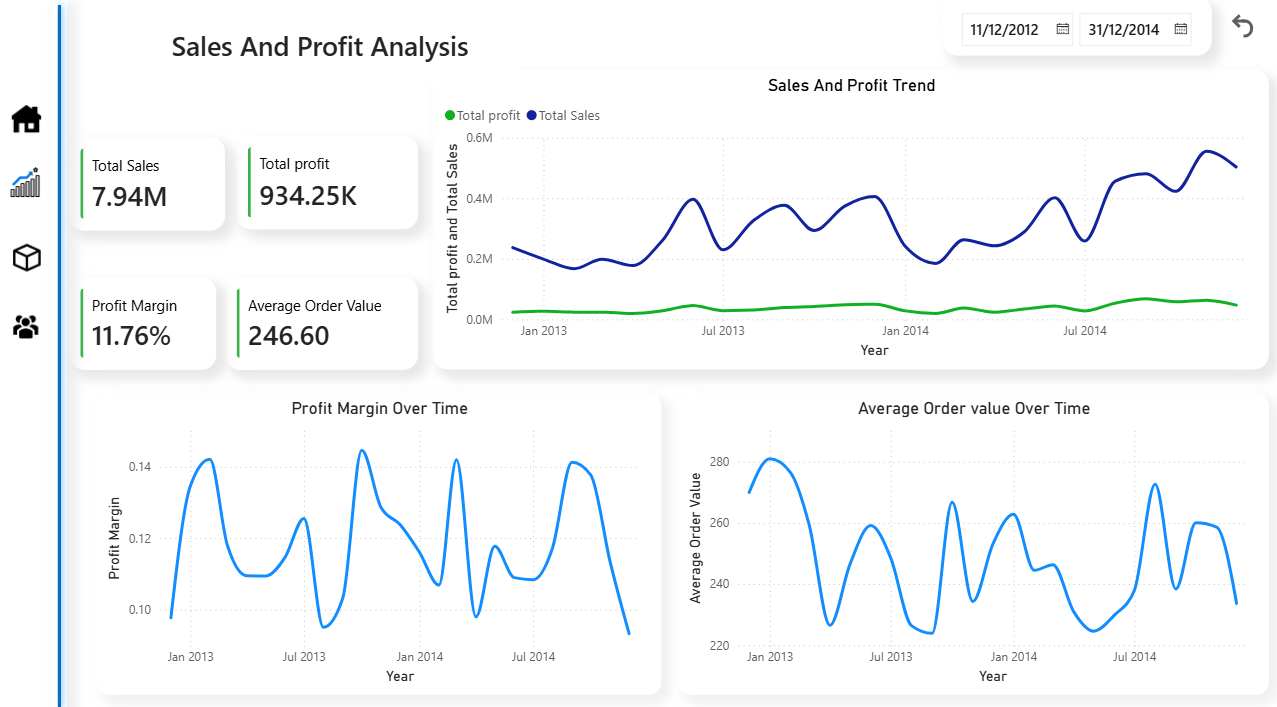

This screenshot's page, from the dashboard's own definition file:
{"tool":"powerbi","page":{"name":"Sales & Profit Analysis","canvas":[1280,720],"ordinal":1},"visuals":[{"type":"lineChart","title":"Sales And Profit Trend","fields":{"Y":["orders.Total profit","orders.Total Sales"],"Category":["date.Date.Variation.Date Hierarchy.Year","date.Date.Variation.Date Hierarchy.Month","date.Date.Variation.Date Hierarchy.Day"]},"box":[433.8,72.5,836.2,300],"z":1000},{"type":"cardVisual","fields":{"Data":["orders.Average Order Value"]},"box":[226.2,280,192.5,92.5],"z":2000},{"type":"cardVisual","fields":{"Data":["orders.Total profit"]},"box":[237.5,138.8,181.2,93.8],"z":3000},{"type":"cardVisual","fields":{"Data":["orders.Total Sales"]},"box":[70,140,156.2,93.8],"z":4000},{"type":"cardVisual","fields":{"Data":["orders.Profit Margin"]},"box":[70,280,147.5,92.5],"z":5000},{"type":"textbox","box":[167.5,25,352.5,58.8],"z":6000},{"type":"slicer","fields":{"Values":["date.Date"]},"box":[944,0,269,58.7],"z":7000},{"type":"lineChart","title":"Profit Margin Over Time","fields":{"Y":["orders.Profit Margin"],"Category":["date.Date.Variation.Date Hierarchy.Year","date.Date.Variation.Date Hierarchy.Quarter","date.Date.Variation.Date Hierarchy.Month","date.Date.Variation.Date Hierarchy.Day"]},"box":[97.5,396.2,565,301.2],"z":8000},{"type":"lineChart","title":"Average Order value Over Time","fields":{"Category":["date.Date.Variation.Date Hierarchy.Year","date.Date.Variation.Date Hierarchy.Quarter","date.Date.Variation.Date Hierarchy.Month","date.Date.Variation.Date Hierarchy.Day"],"Y":["orders.Average Order Value"]},"box":[678.8,396.2,591.2,301.2],"z":9000},{"type":"shape","box":[51.9,0,15.7,720.2],"z":10000},{"type":"actionButton","box":[6,161.7,39.8,48.3],"z":11000},{"type":"actionButton","box":[8.4,95.3,37.4,54.3],"z":12000},{"type":"actionButton","box":[6,308.8,51.9,41],"z":13000},{"type":"actionButton","box":[4.8,234,45.8,53.1],"z":14000},{"type":"actionButton","box":[1227.5,1.2,32.5,55],"z":15000}]}

Visuals, with their boxes on the page's 1280x720 design canvas (x1, y1, x2, y2). These are canvas units, not pixel positions in the 1277x707 screenshot, which may show the page scaled, cropped or inside an application window:
"Sales And Profit Trend" lineChart: bbox=[434, 72, 1270, 372]
cardVisual - orders.Average Order Value: bbox=[226, 280, 419, 372]
cardVisual - orders.Total profit: bbox=[238, 139, 419, 233]
cardVisual - orders.Total Sales: bbox=[70, 140, 226, 234]
cardVisual - orders.Profit Margin: bbox=[70, 280, 218, 372]
textbox: bbox=[168, 25, 520, 84]
slicer - date.Date: bbox=[944, 0, 1213, 59]
"Profit Margin Over Time" lineChart: bbox=[98, 396, 662, 697]
"Average Order value Over Time" lineChart: bbox=[679, 396, 1270, 697]
shape: bbox=[52, 0, 68, 720]
actionButton: bbox=[6, 162, 46, 210]
actionButton: bbox=[8, 95, 46, 150]
actionButton: bbox=[6, 309, 58, 350]
actionButton: bbox=[5, 234, 51, 287]
actionButton: bbox=[1228, 1, 1260, 56]
